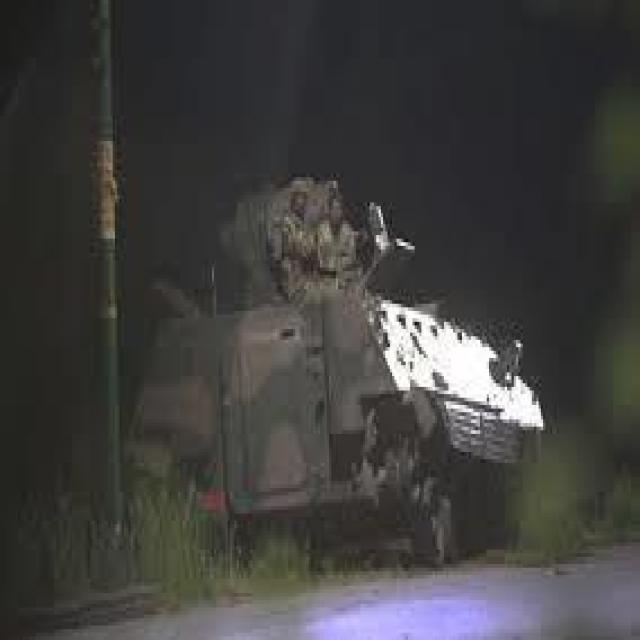Tanks: (99, 138, 561, 590)
